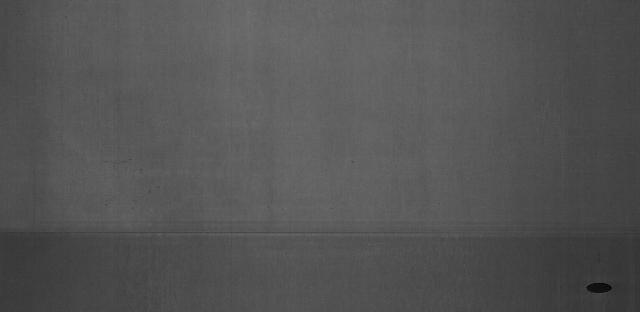punching_hole: (583, 279, 616, 297)
welding_line: (4, 215, 635, 250)
